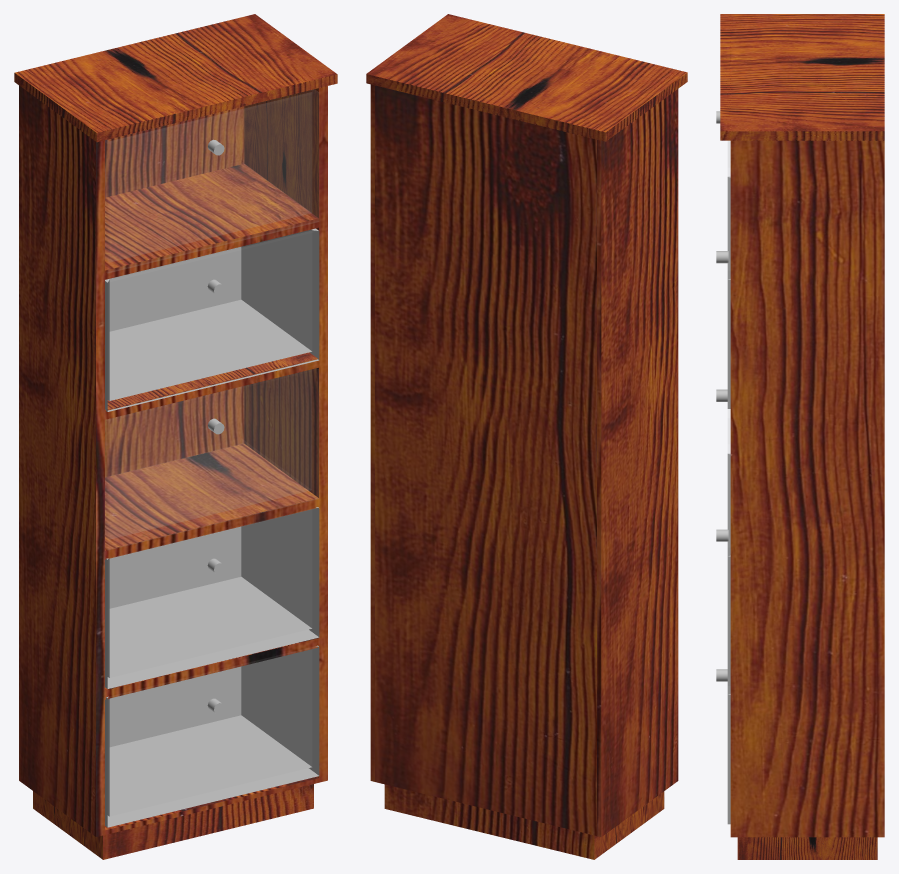
The model's file is GlassDrawer.obj.
The picture shows the model from 3 angles, left to right: view 1: azimuth 30°, elevation 25°; view 2: azimuth 150°, elevation 25°; view 3: azimuth 270°, elevation 25°; orthographic projection.
Parts seen in each view (by area): view 1: Mesh, Mesh (5), Mesh (4), Mesh (6), Mesh (3), Mesh (2); view 2: Mesh; view 3: Mesh, Mesh (3), Mesh (5), Mesh (6), Mesh (4).
Part boxes in pixels (x1,y1,x2,y2): Mesh: (14, 14, 337, 859); Mesh (5): (105, 507, 319, 688); Mesh (4): (105, 369, 318, 549); Mesh (6): (105, 645, 319, 827); Mesh (3): (105, 228, 319, 411); Mesh (2): (105, 90, 318, 272); Mesh: (366, 14, 687, 859); Mesh: (720, 14, 884, 859); Mesh (3): (716, 176, 730, 408); Mesh (5): (716, 453, 730, 685); Mesh (6): (716, 669, 730, 824); Mesh (4): (716, 389, 729, 546).
Size of the model in its own units: 0.27 by 0.79 by 0.164.
